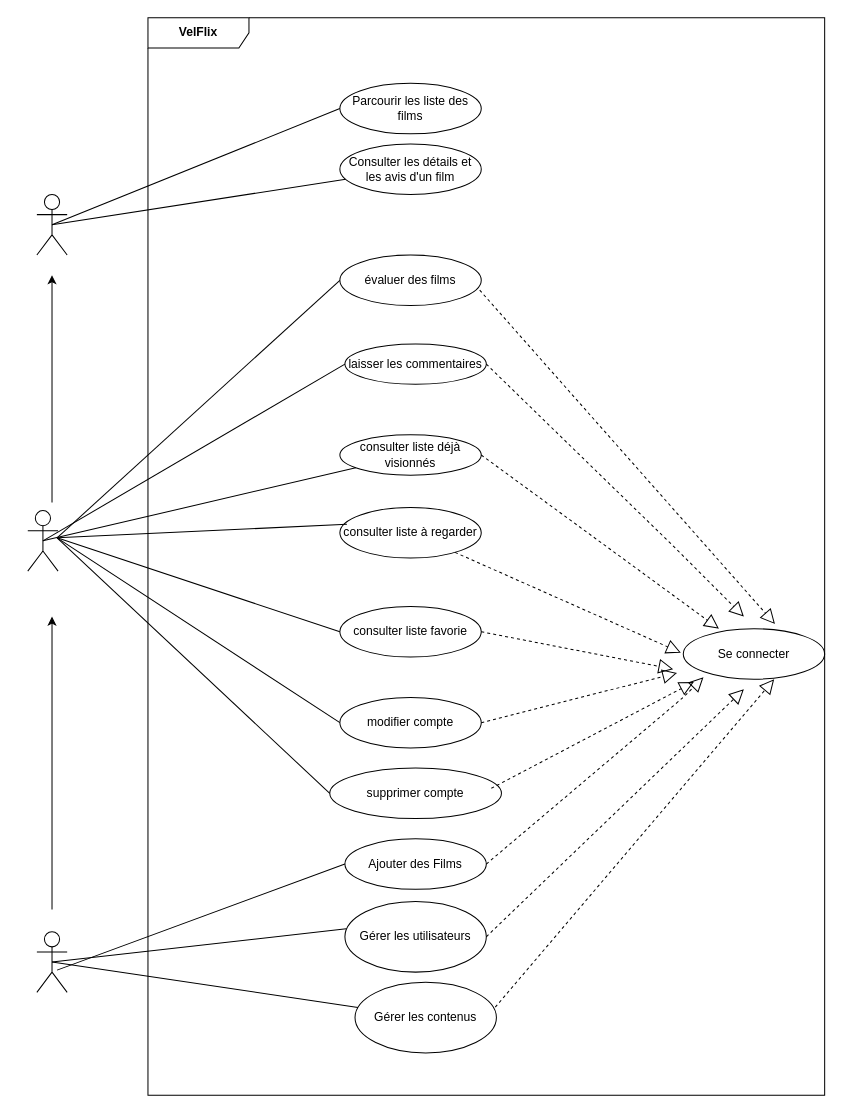
Image size: 842x1113. Some labels were removed from this diagram. Each missing label, with the centre of its shape:
"Admin" belongs at [51,961].
"utilisateur" belongs at [42,540].
"visionneur" belongs at [51,224].
